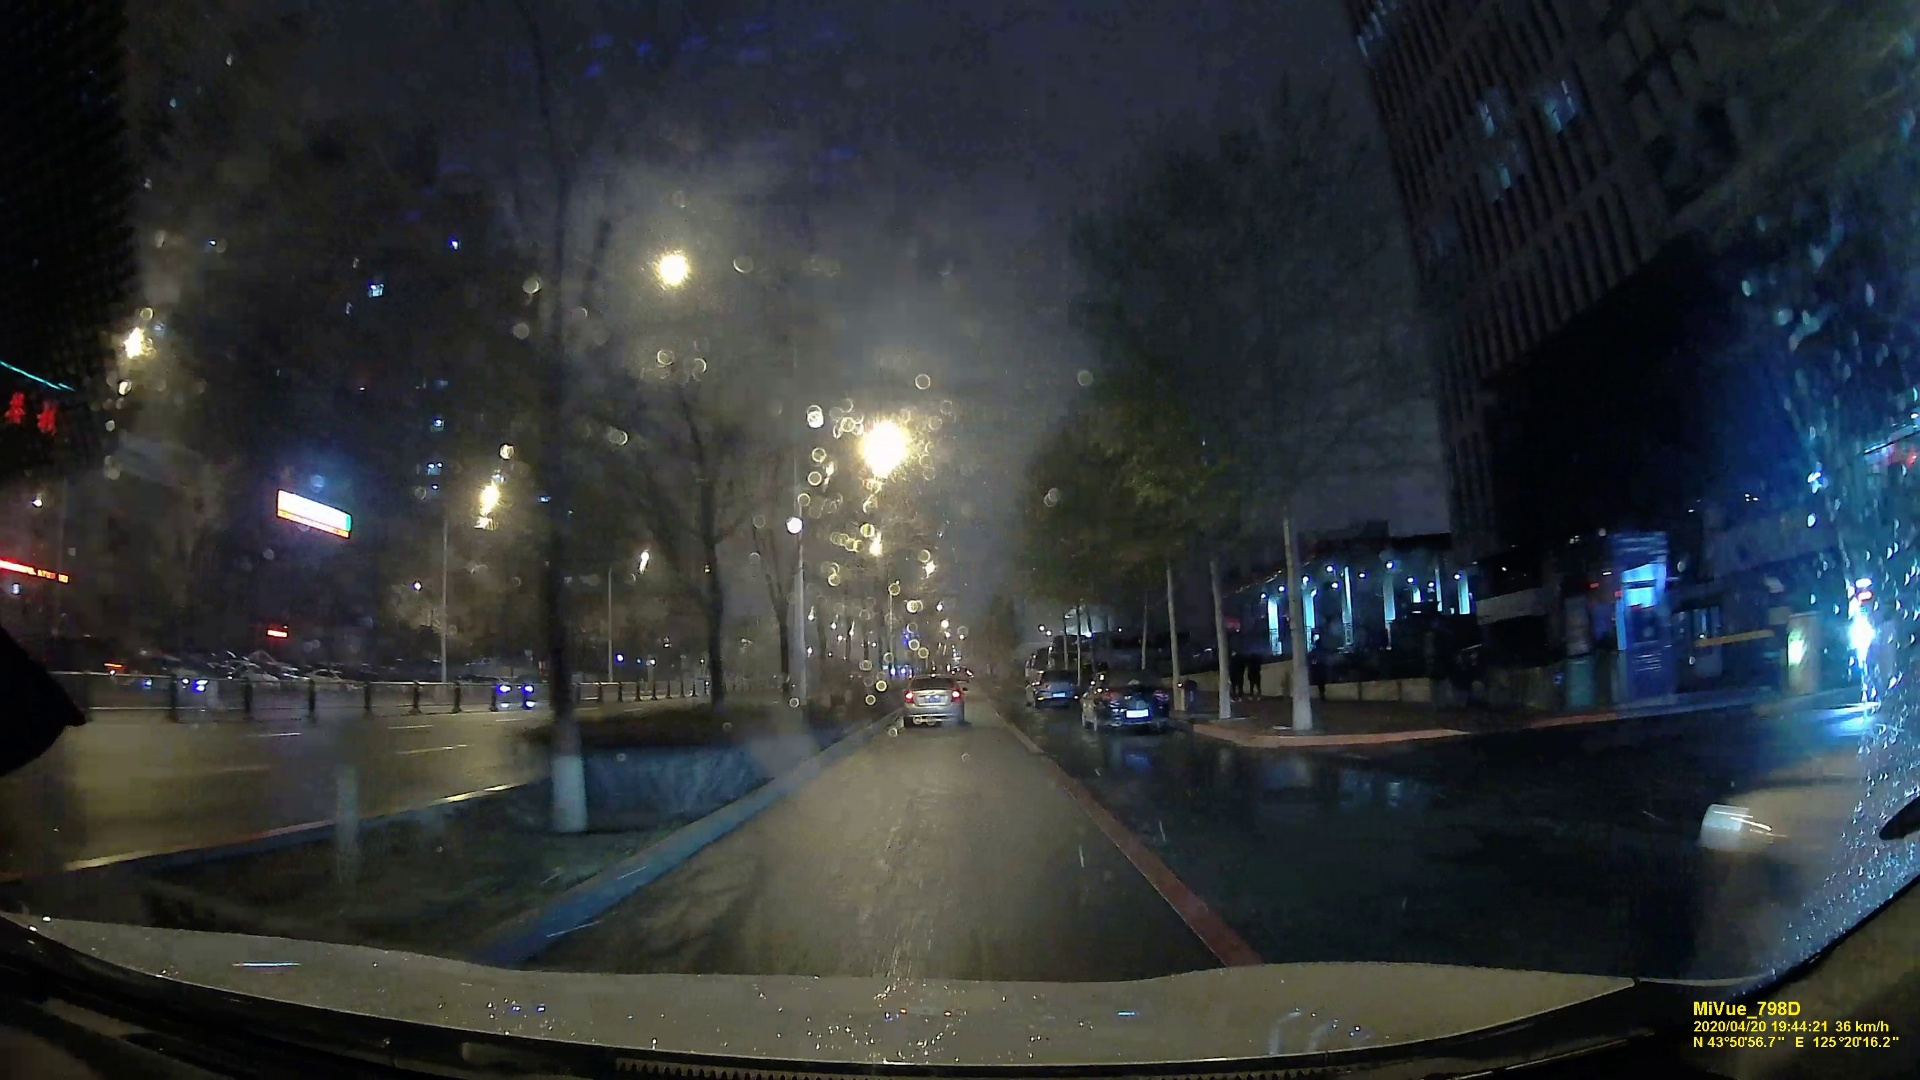person: (1224, 648, 1241, 706), (1245, 648, 1261, 698)
vehicle: (1082, 667, 1167, 729), (902, 674, 963, 726), (490, 670, 566, 701)
